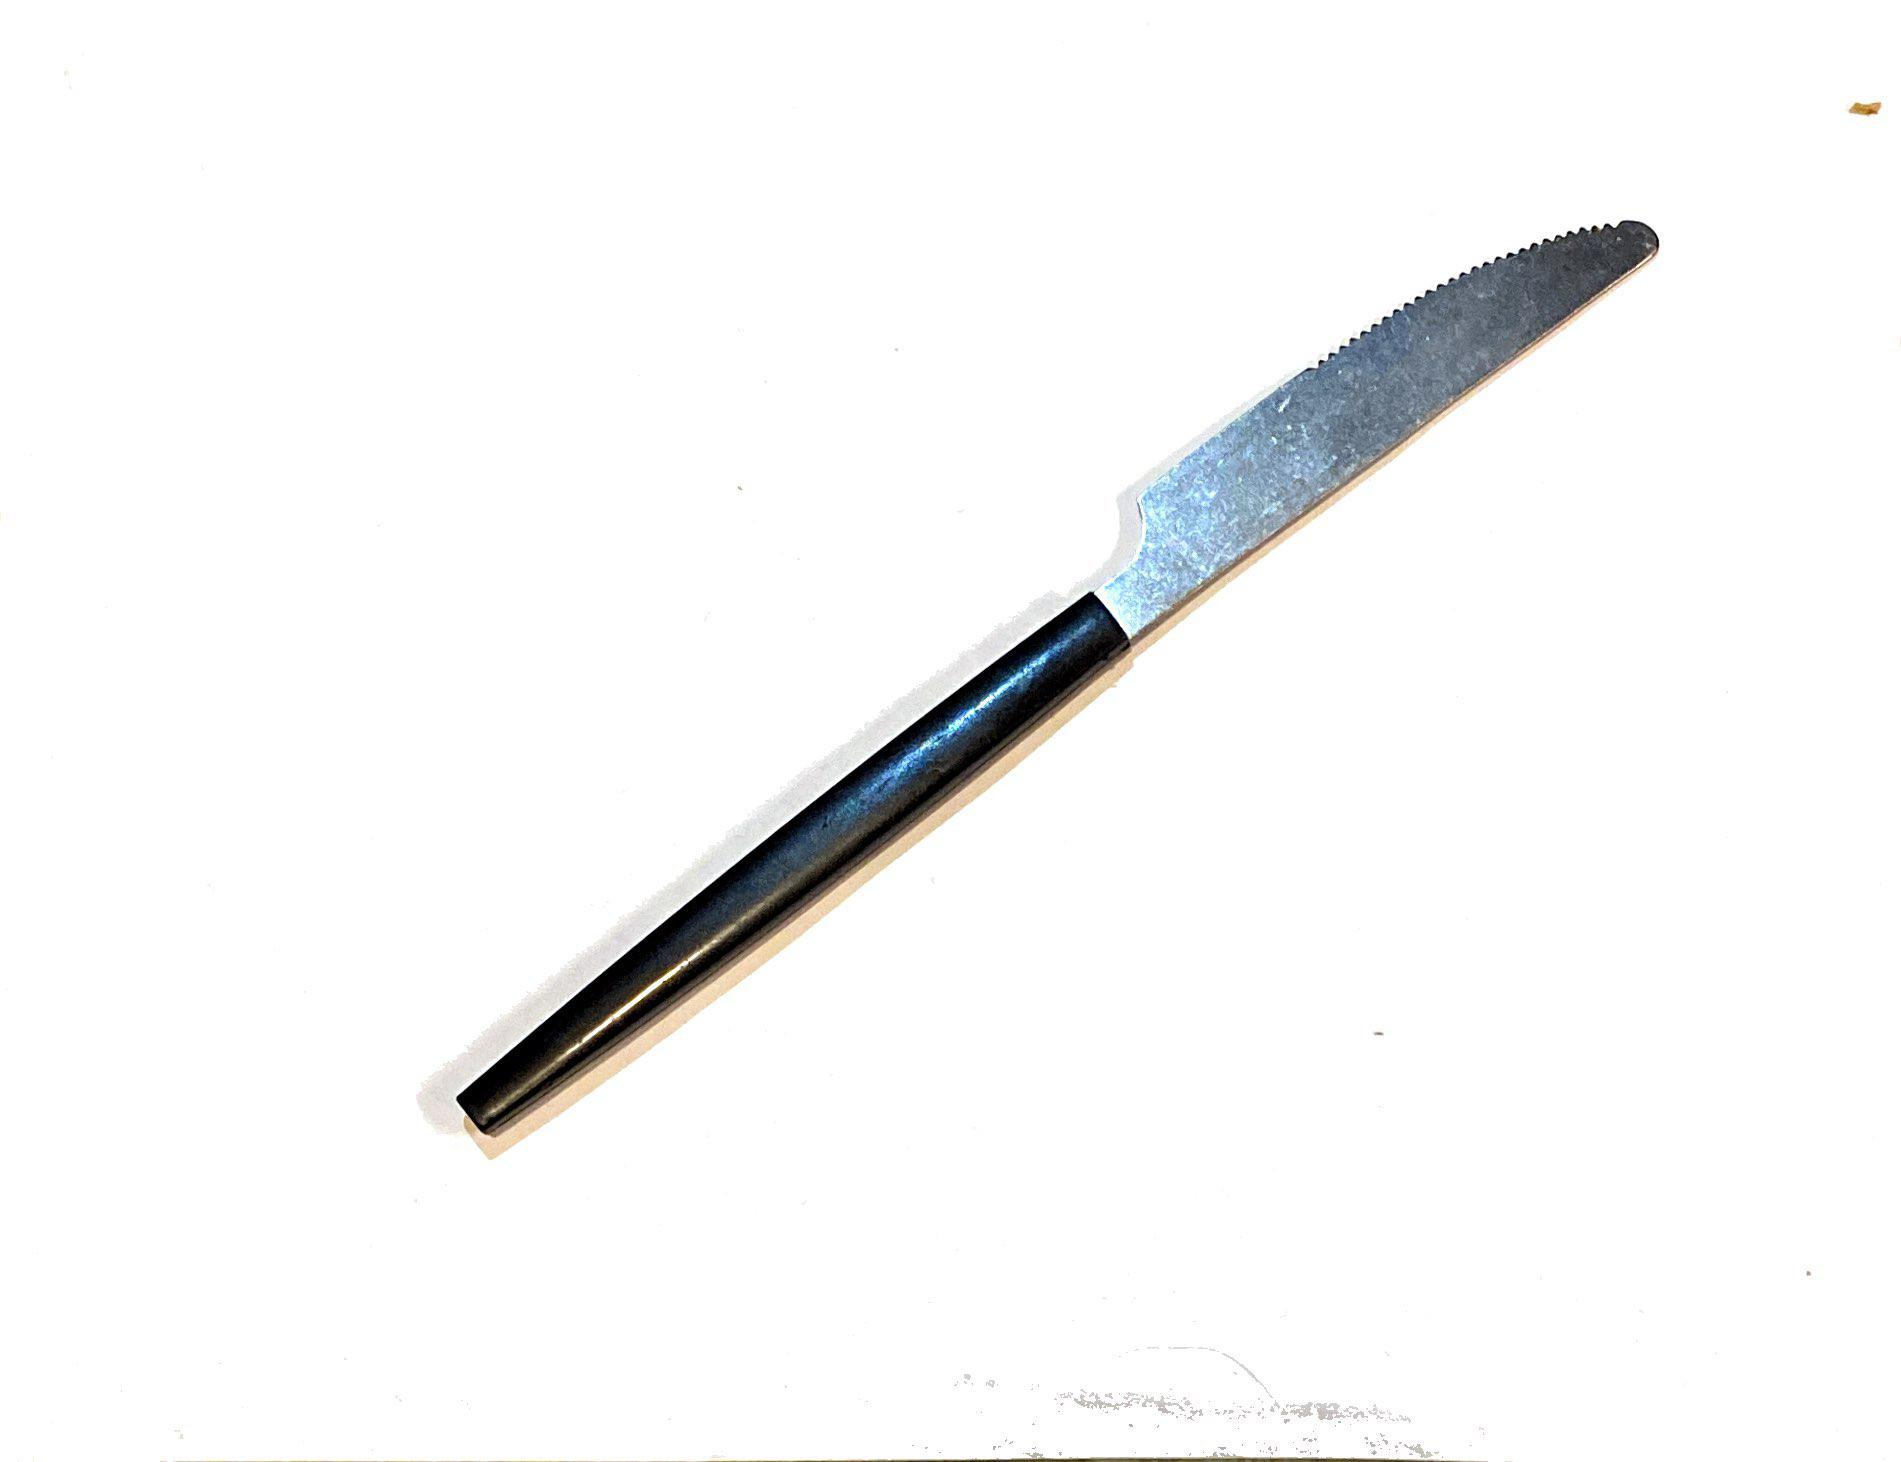Knife: (382, 160, 1797, 1316)
